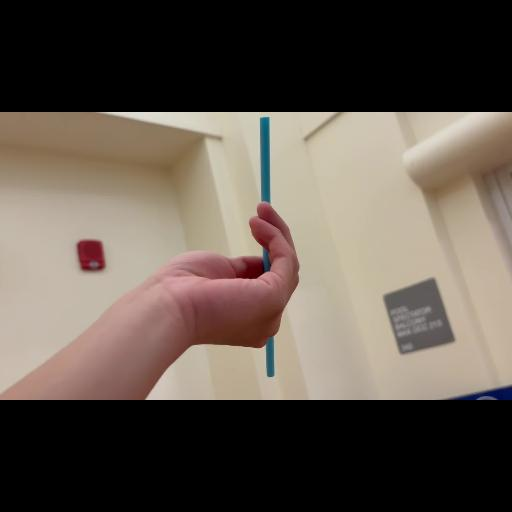straw: (260, 118, 274, 374)
